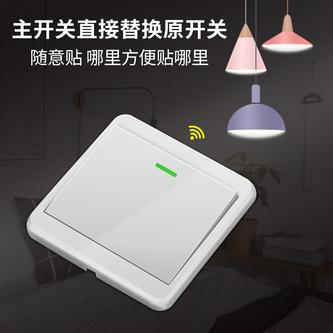switch: (84, 155, 222, 287)
